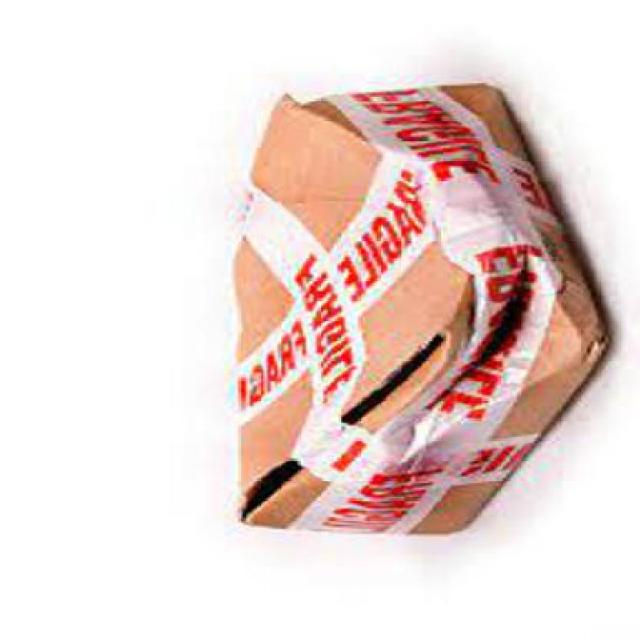defect: (220, 74, 612, 540)
